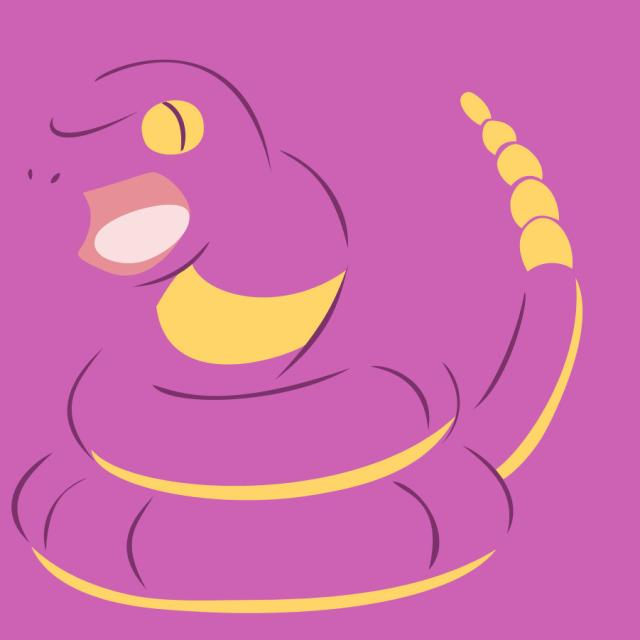Ekans: (8, 57, 596, 512)
